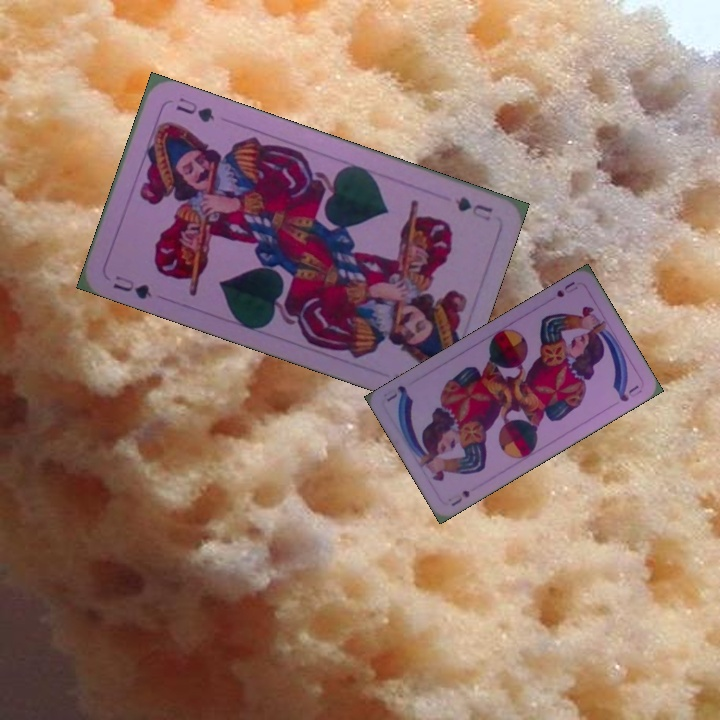GU: (450, 192, 495, 224), (109, 271, 154, 302)
SU: (551, 278, 581, 300), (447, 486, 472, 509)
